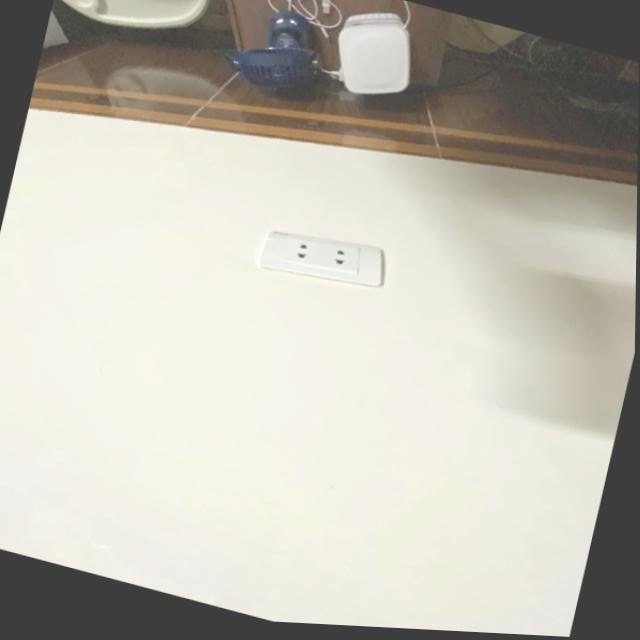outlet: (257, 217, 392, 299)
